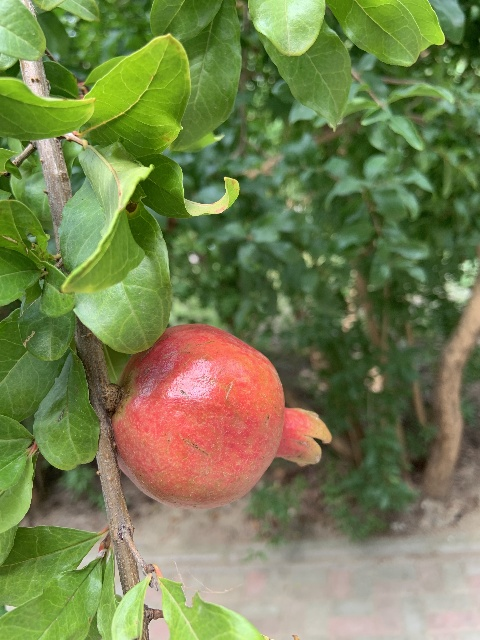ripe: (112, 323, 332, 508)
